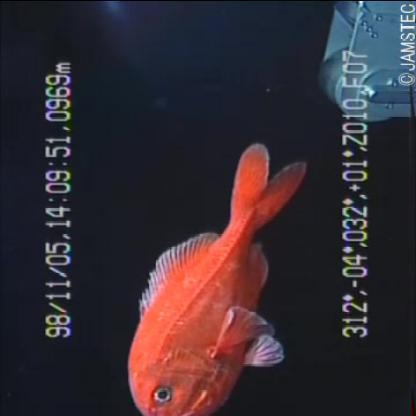Rov: (307, 2, 415, 125)
